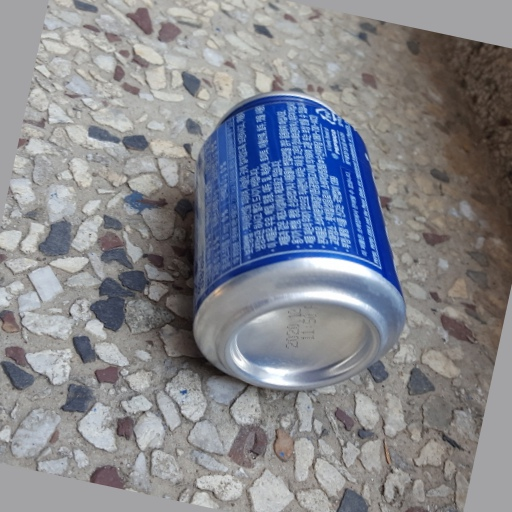Metal_0: (190, 90, 409, 392)
